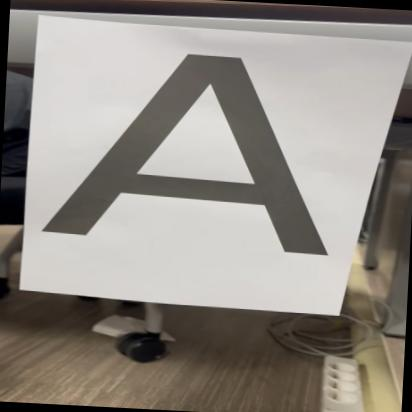seat: (44, 41, 352, 258)
